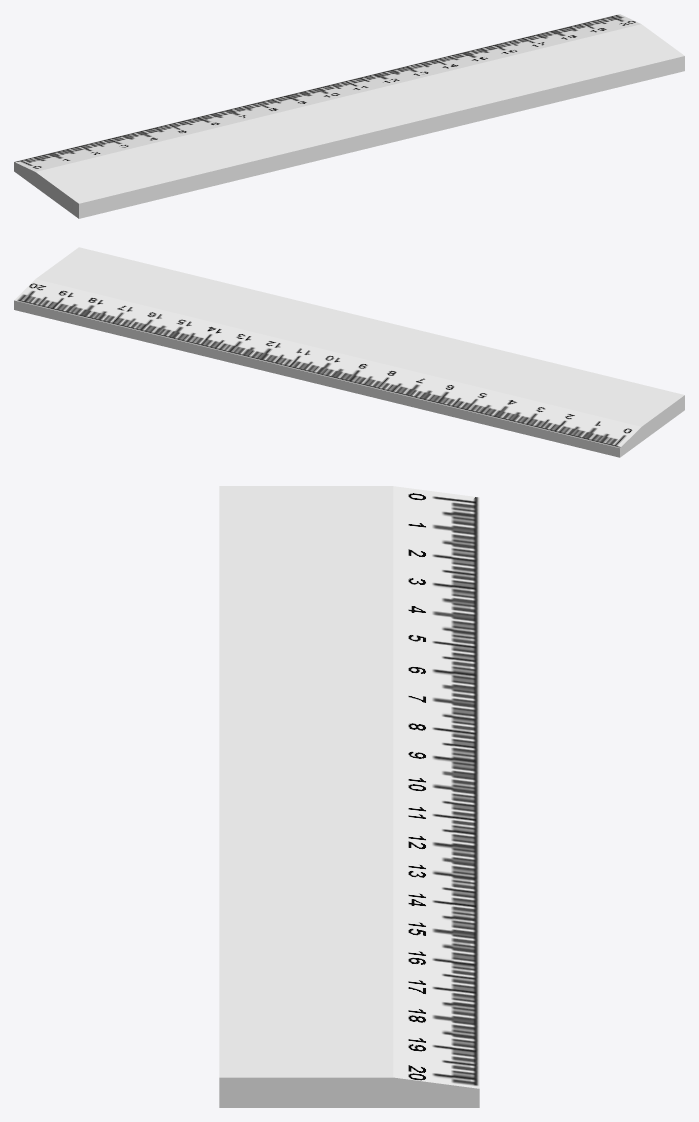
File: Xarakas.fbx
3 renders of one model, top to bottom at view 1: azimuth 30°, elevation 25°; view 2: azimuth 150°, elevation 25°; view 3: azimuth 270°, elevation 25°, orthographic. The views are drawn at different scales.
Visible parts, largest first — view 1: Xarakas; view 2: Xarakas; view 3: Xarakas.
Boxes of the visible parts, <box> form: Xarakas: <box>14,14,684,218</box>; Xarakas: <box>14,247,684,457</box>; Xarakas: <box>219,486,479,1107</box>.
Bounding box in the file's own units: 17.98 × 0.4297 × 3.34.
